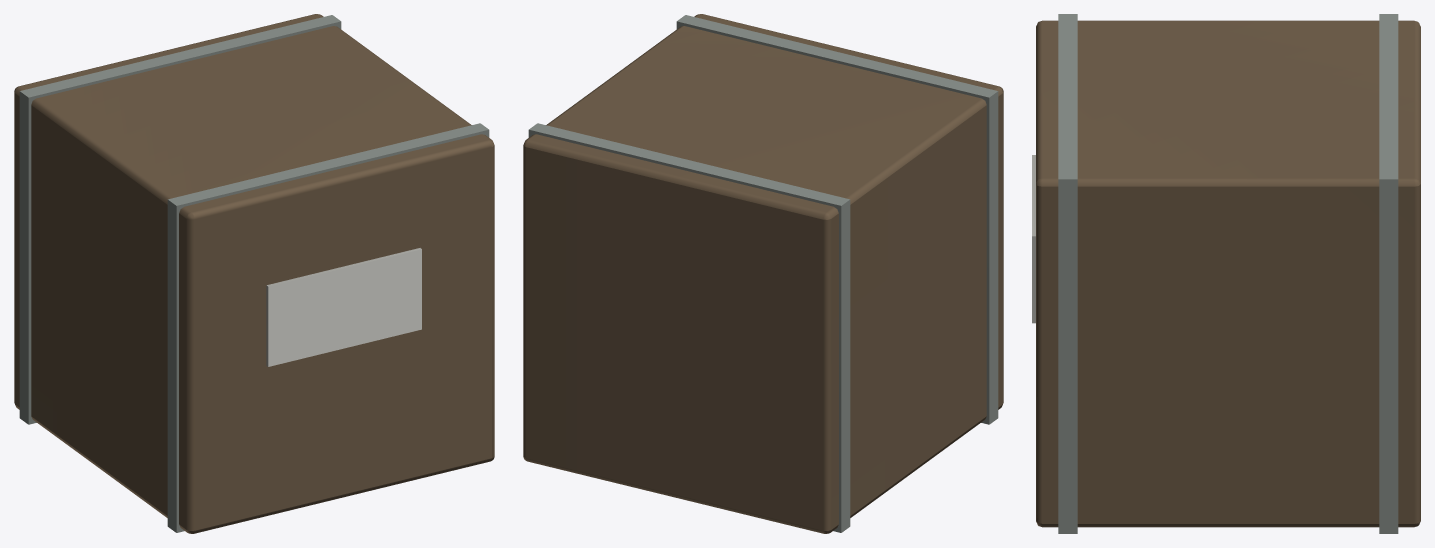
The model's file is crate_large.glb.
3 views of the same model, side by side, from view 1: azimuth 30°, elevation 25°; view 2: azimuth 150°, elevation 25°; view 3: azimuth 270°, elevation 25° (orthographic). The views are drawn at different scales.
Parts seen in each view (by area): view 1: CrateLarge; view 2: CrateLarge; view 3: CrateLarge.
Boxes of the visible parts, <box> form: CrateLarge: <box>14,14,494,533</box>; CrateLarge: <box>523,14,1003,533</box>; CrateLarge: <box>1032,14,1420,533</box>.
Size of the model in its own units: 1.22 by 1.22 by 1.21.
